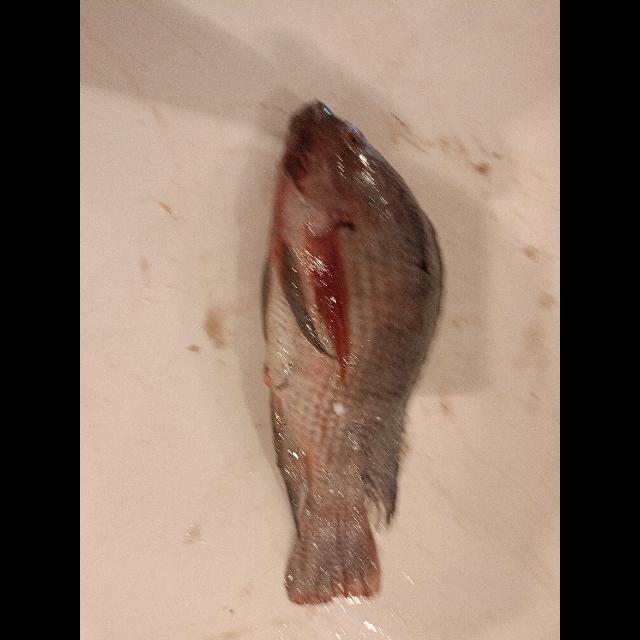Tilapia: (263, 100, 445, 606)
